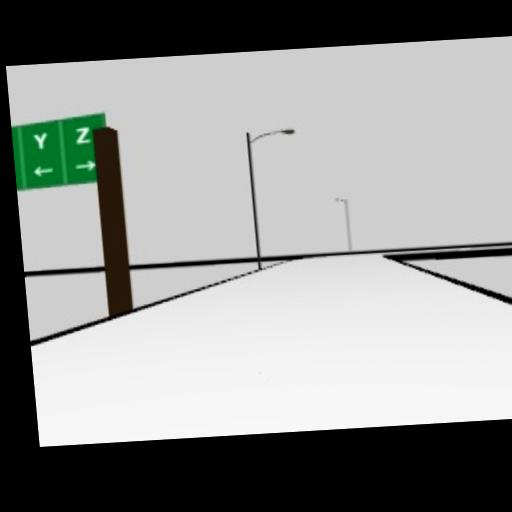Left: (31, 165, 53, 176)
Right: (73, 158, 97, 172)
Y: (31, 130, 48, 148)
Z: (74, 124, 90, 142)
